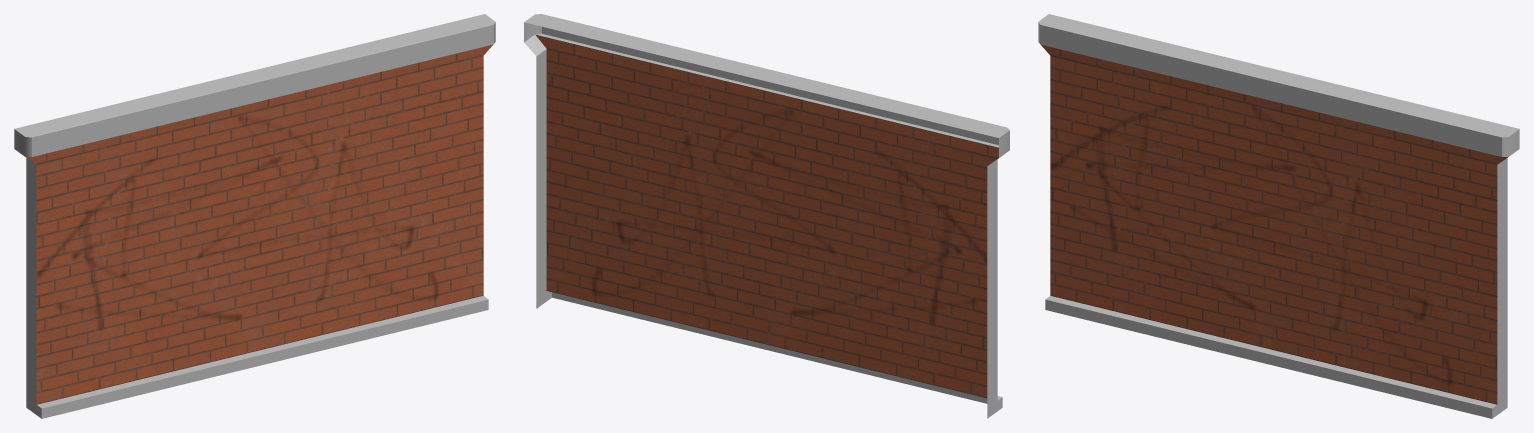
Rendered from WALLBRICK.fbx.
3 renders of one model, left to right at view 1: azimuth 30°, elevation 25°; view 2: azimuth 150°, elevation 25°; view 3: azimuth 330°, elevation 25°, orthographic.
Visible parts, largest first — view 1: WALLBRICK; view 2: WALLBRICK; view 3: WALLBRICK.
Part boxes in pixels (<box>): WALLBRICK: <box>14,14,495,418</box>; WALLBRICK: <box>524,14,1009,418</box>; WALLBRICK: <box>1038,14,1519,418</box>.
Bounding box in the file's own units: 13.62 × 7.78 × 0.7847.
1 material, 1 textured.
